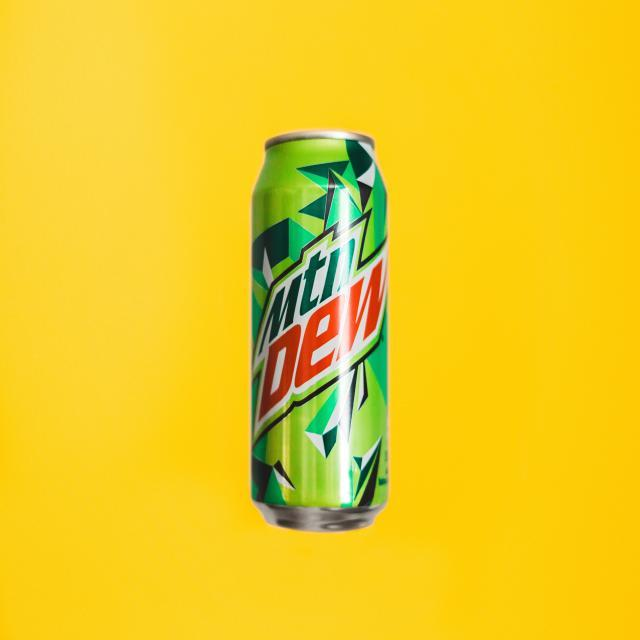can: (209, 53, 450, 566)
